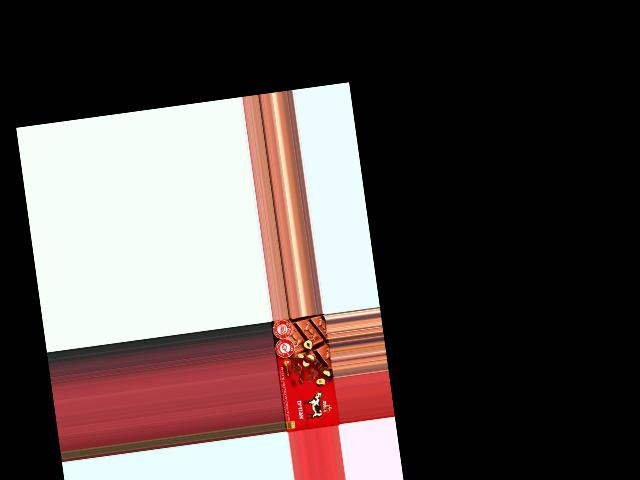chocolate: (272, 314, 339, 432)
